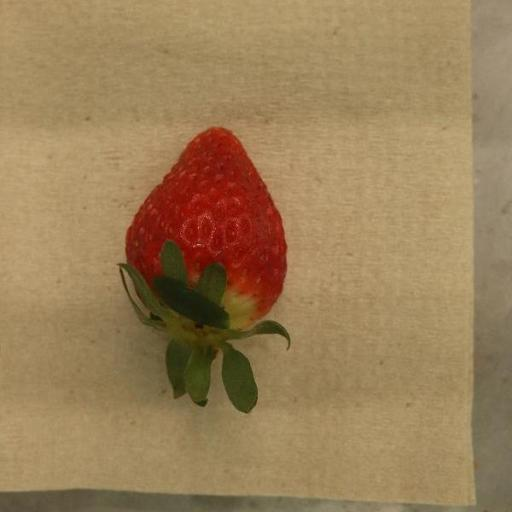Strawberry: (117, 127, 291, 415)
